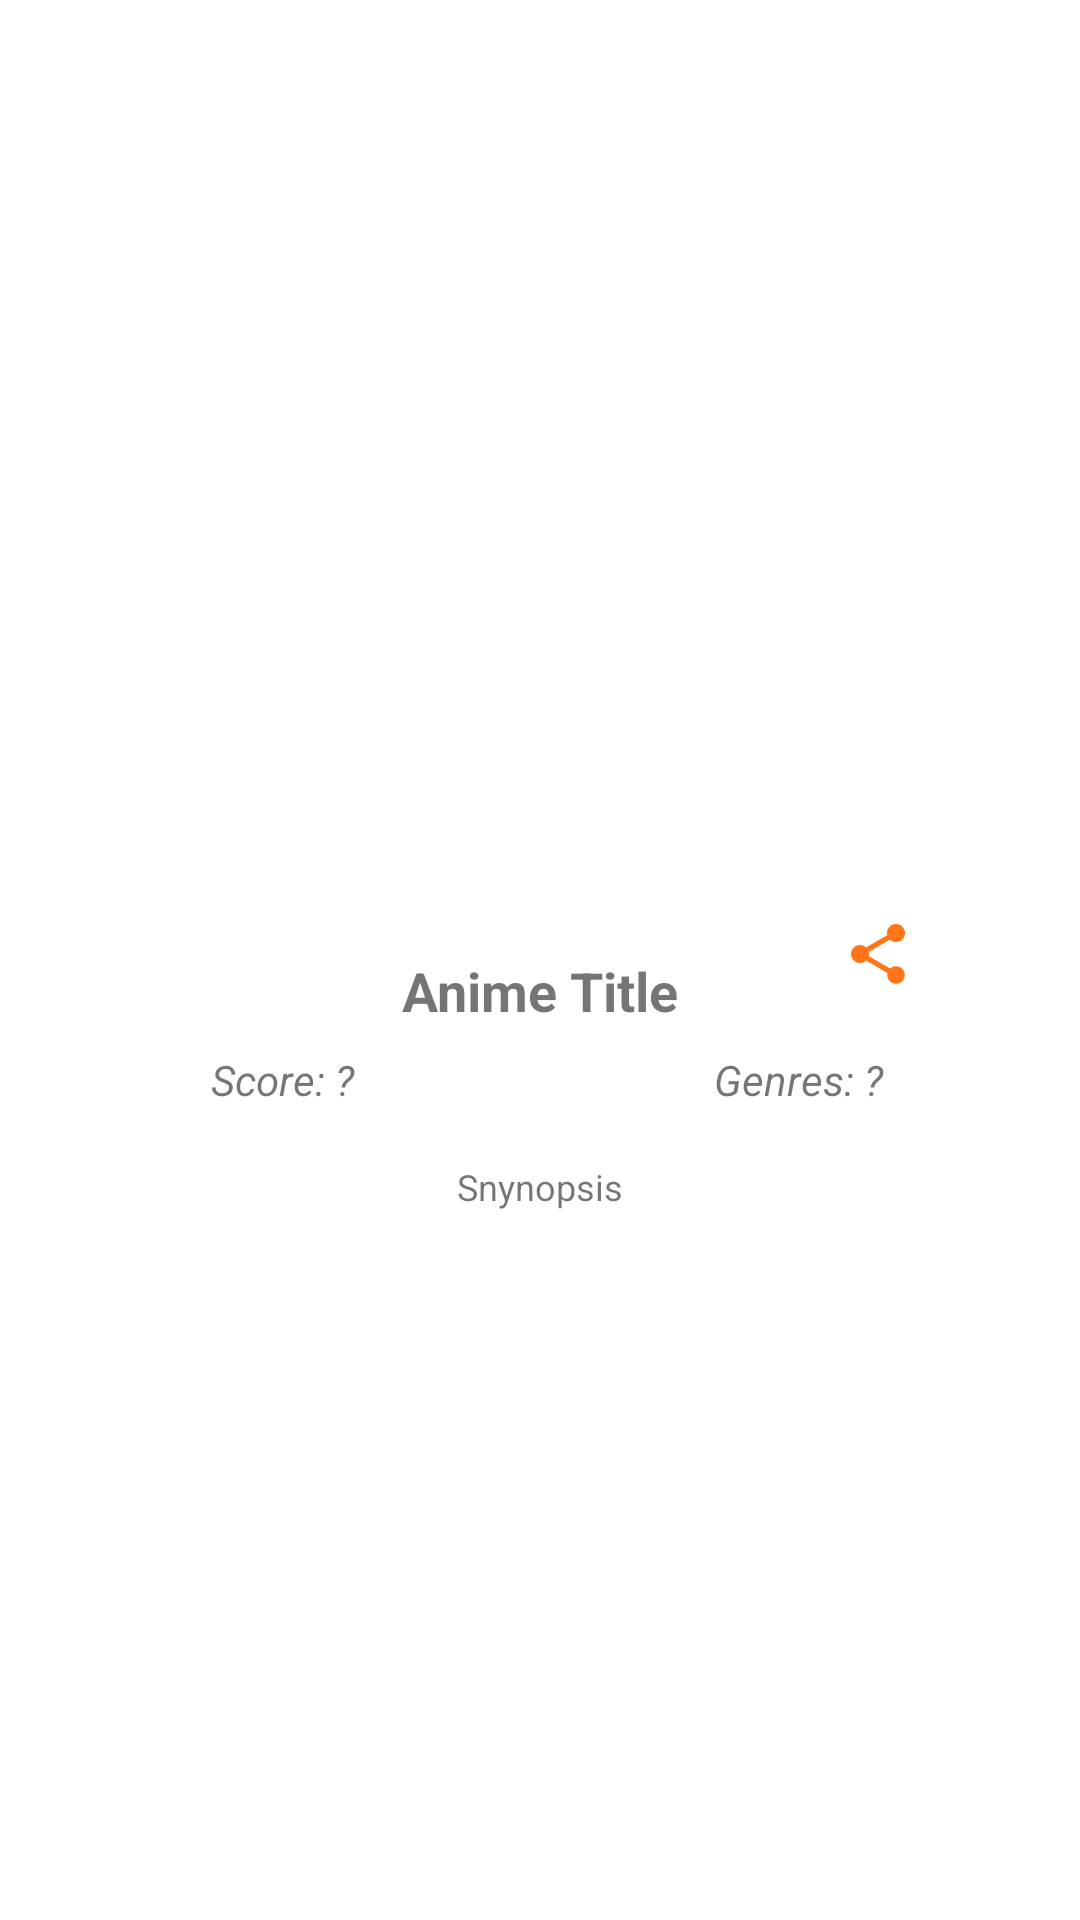

Named icons in this screenshot (1080w x 1920h) and their bounding boxes, [x1, y1, x2, y2]:
share: [851, 924, 905, 984]
